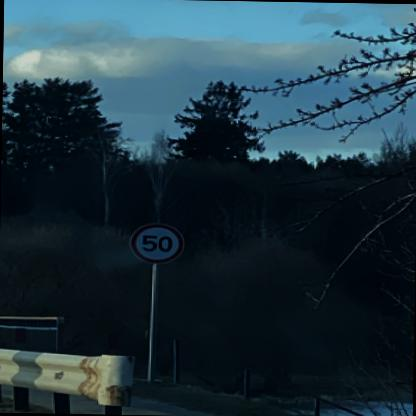speedlimit: (127, 220, 183, 263)
